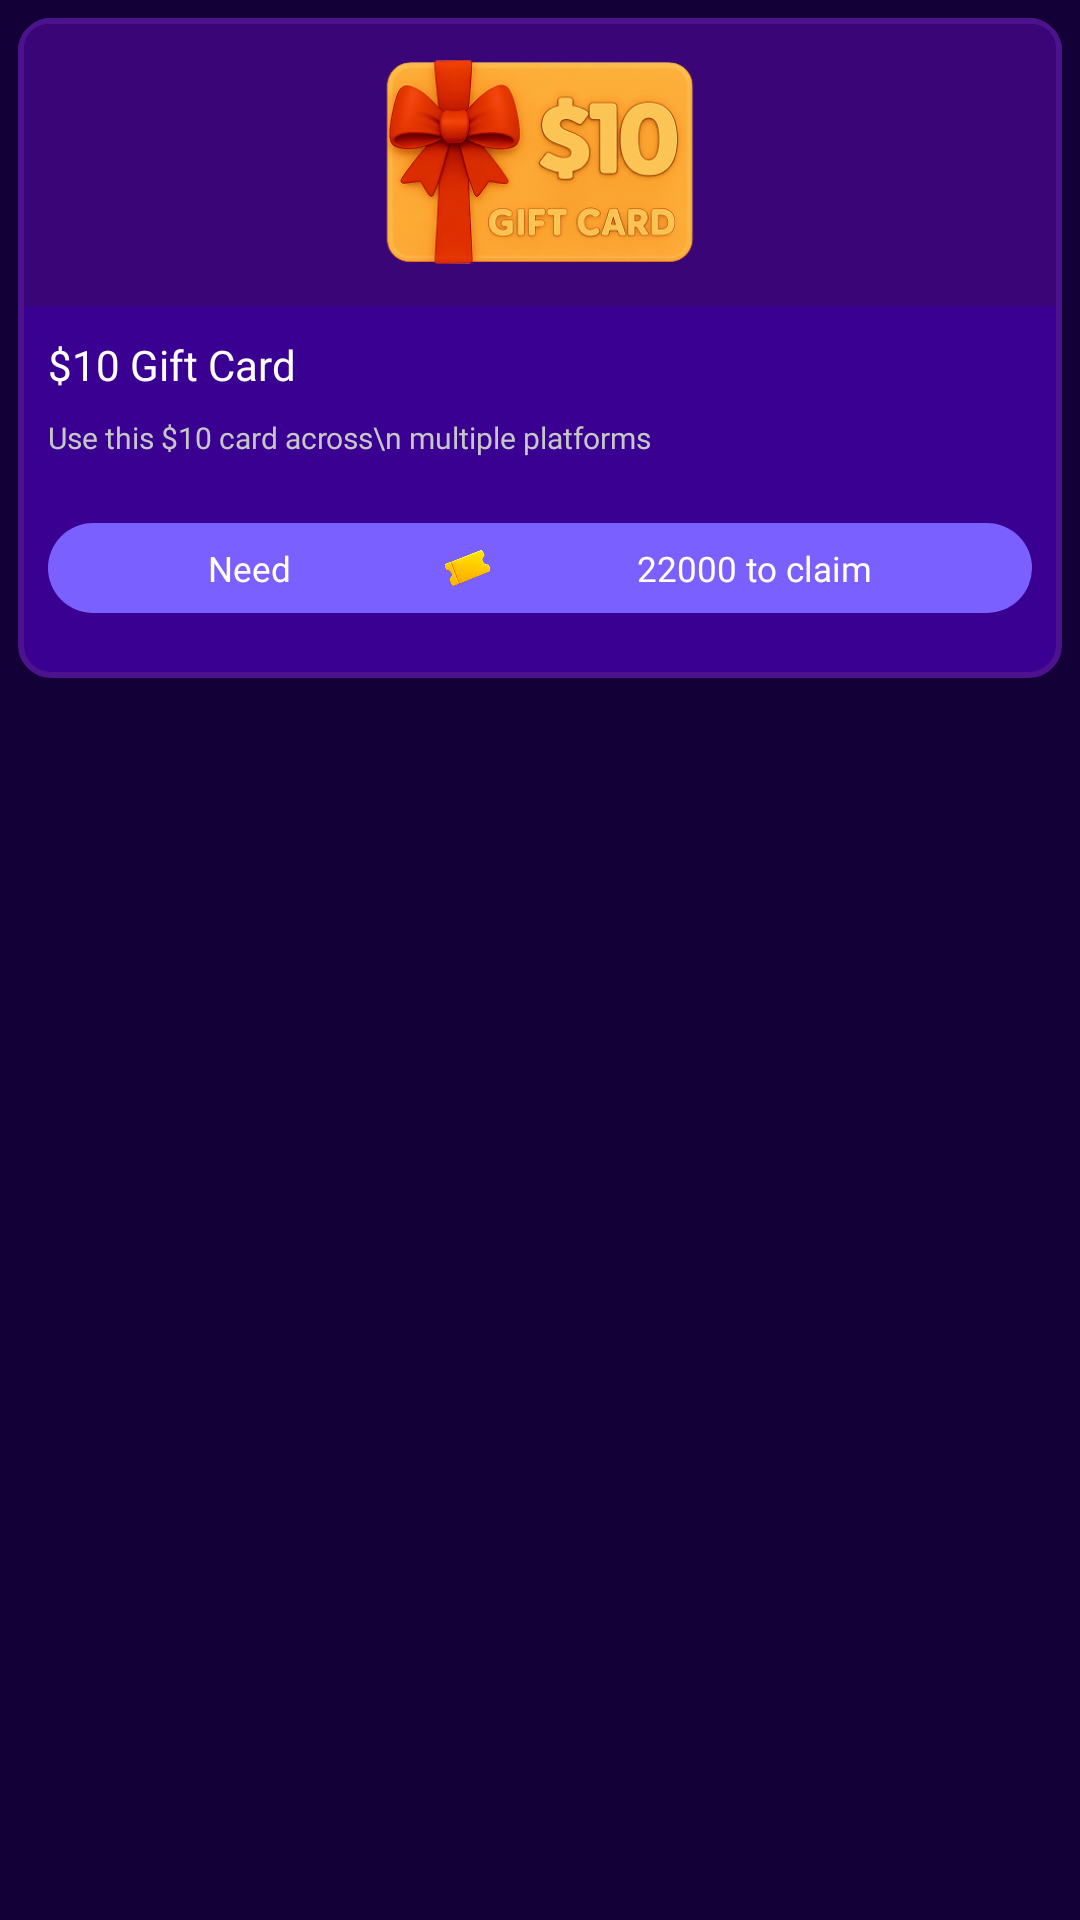

Screen size 1080 x 1920. Icon name, then its center in pixels as (x=x, y=y):
ticket: (x=467, y=568)
